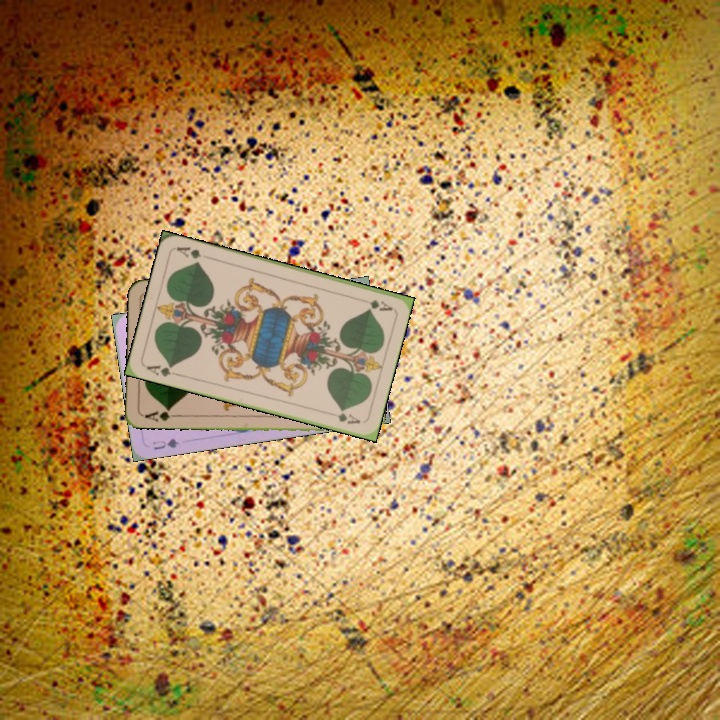GA: (355, 294, 395, 314), (141, 404, 180, 424), (143, 361, 182, 379)
GU: (149, 434, 182, 452)
